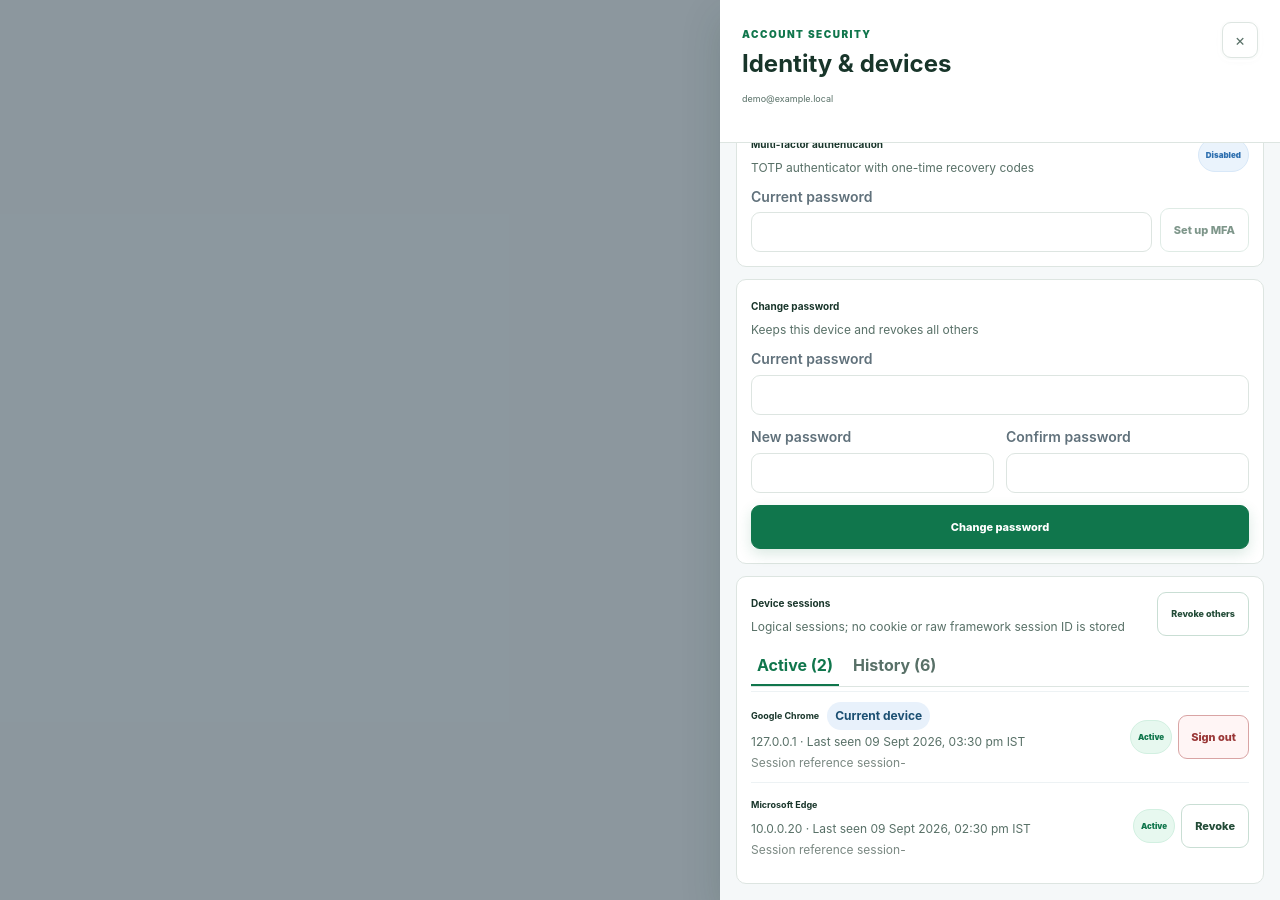
Test: account security panel › defaults to active devices, paginates history, keeps IDs secondary, and names revocation targets
(page scrolled)
Expected: the text "Google Chrome" is shown, [751,710,819,721]
Expected: the text "Mozilla Firefox" is not shown
What coordinates should you click on to do the following:
click the button "Revoke"
I would click on:
 (1215, 826)
Its box is [1181,804,1249,848].
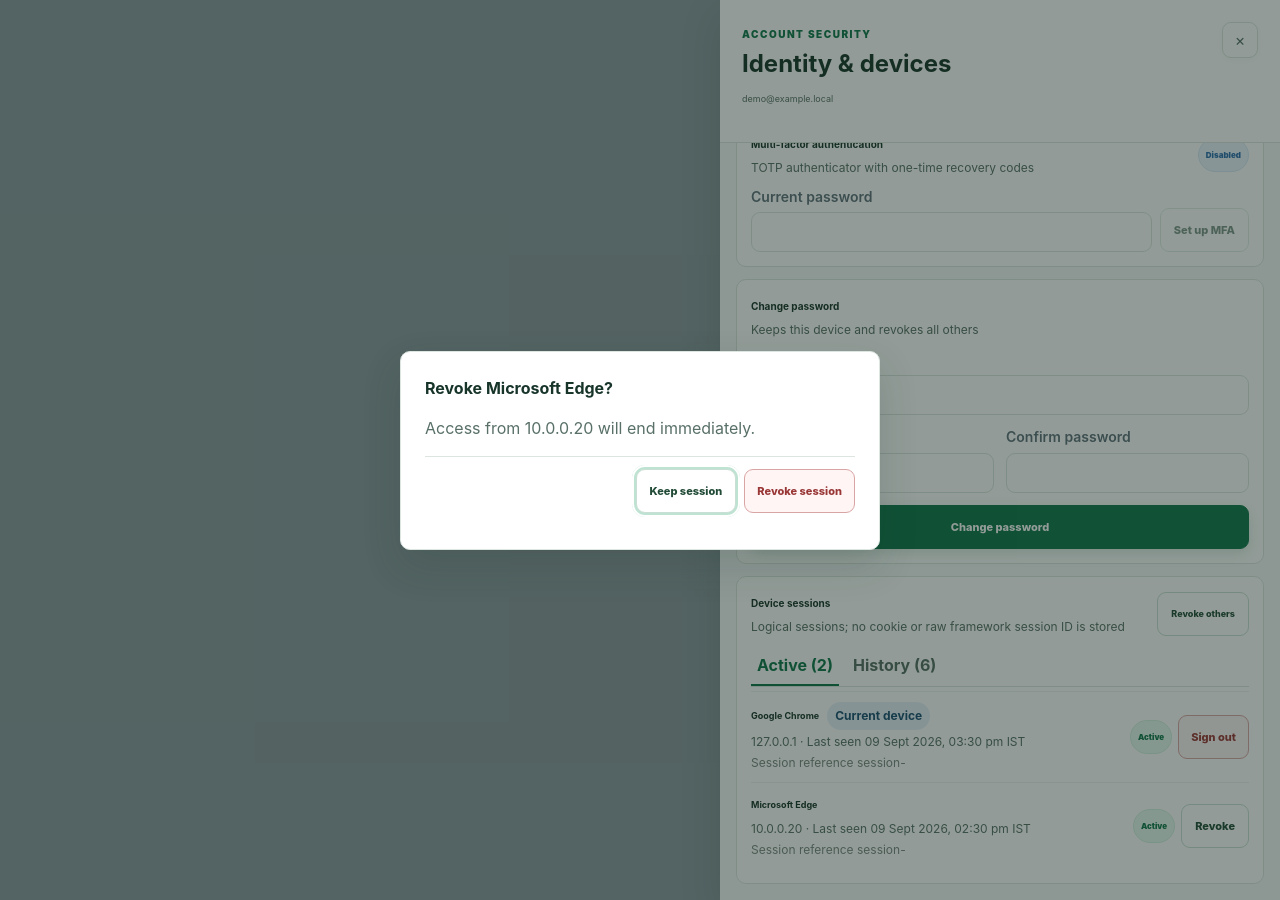
Expected: the dialog "Revoke Microsoft Edge?" is shown, [400,350,880,550]
What coordinates should you click on to do the following:
click the button "Keep session"
I would click on:
 (686, 490)
Its box is [636,468,736,512].
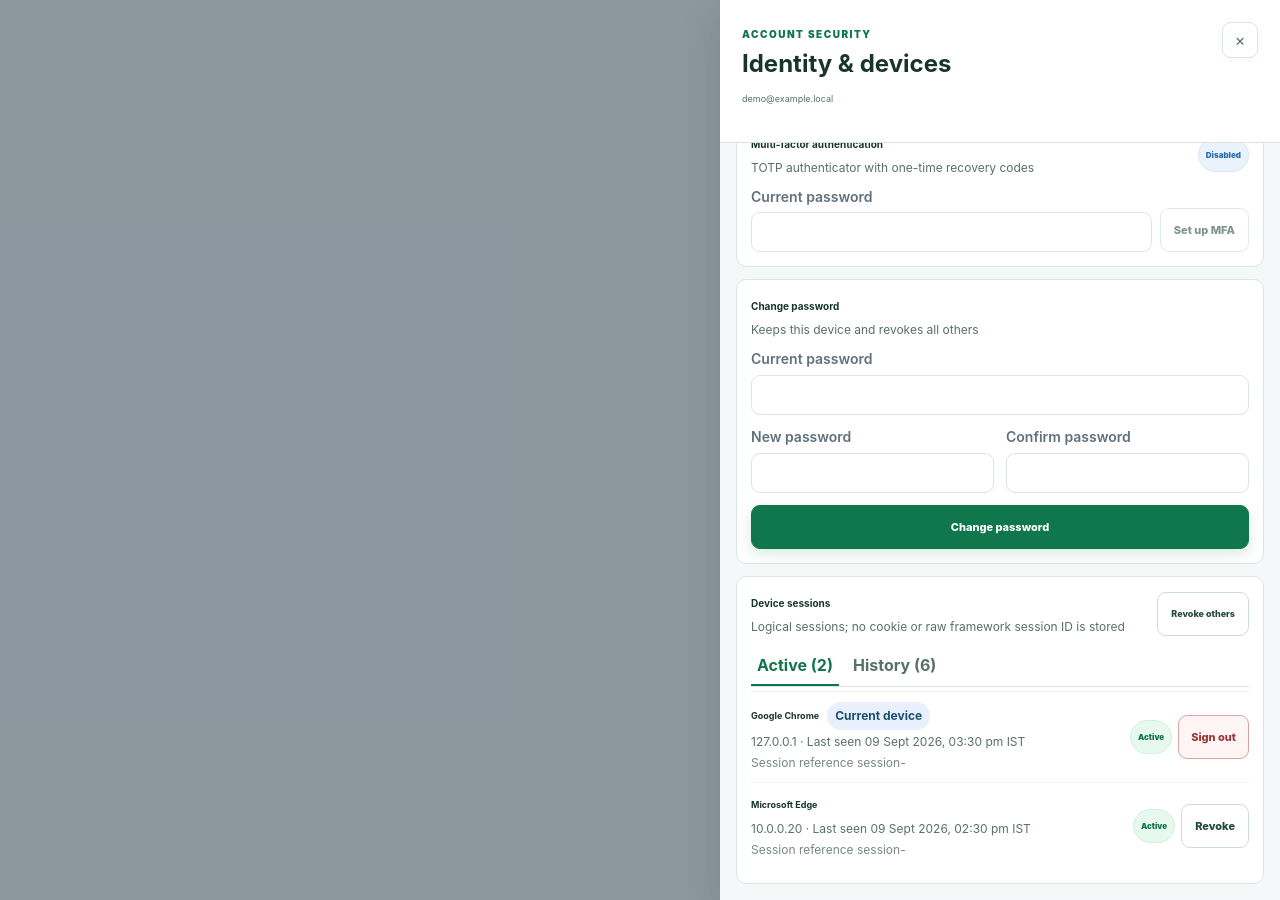
What coordinates should you click on to do the following:
click the tab "History (6)"
I would click on:
 (895, 666)
Its box is [847,646,942,686].
(page scrolled)
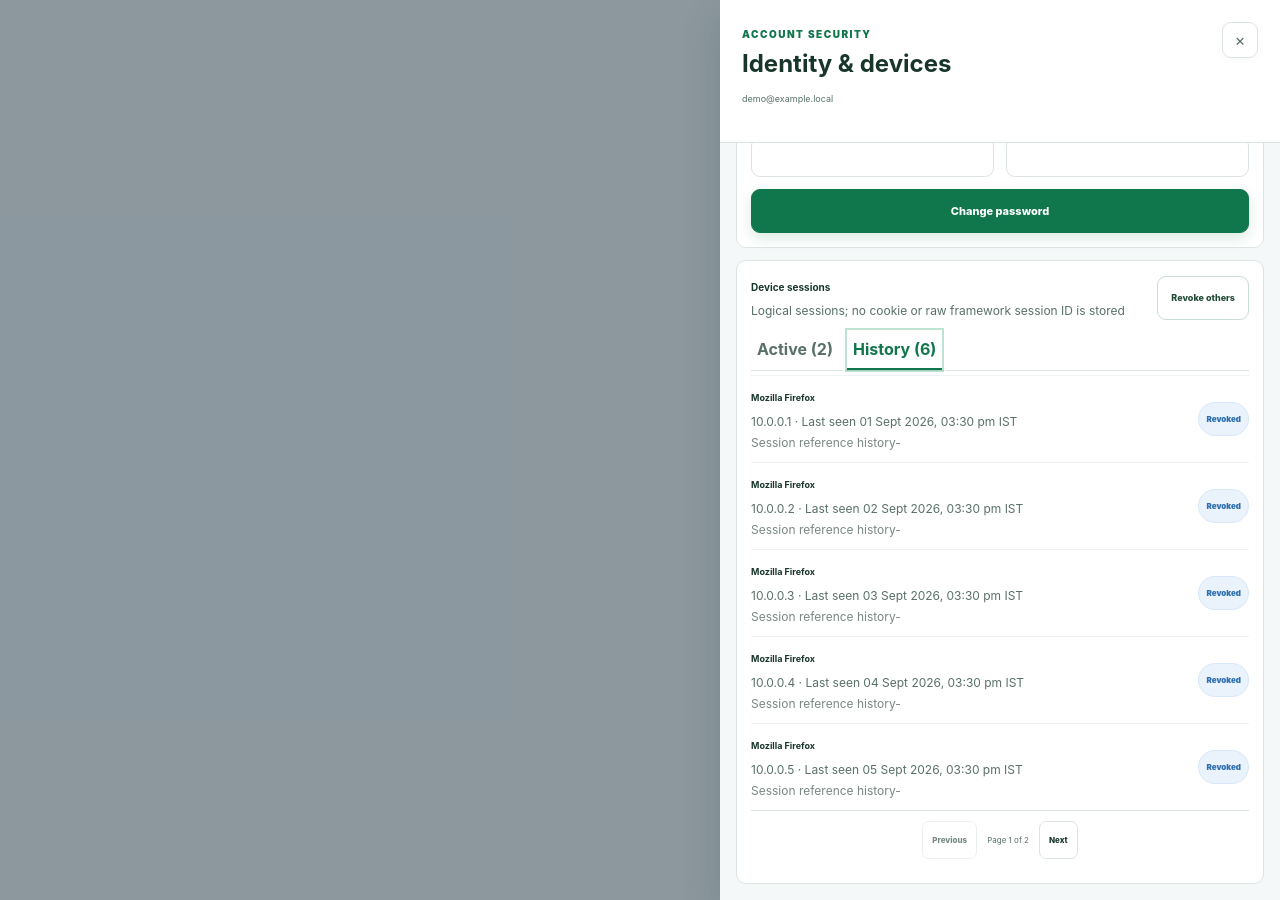
Expected: the text "Page 1 of 2" is shown, [987,835,1029,845]
What coordinates should you click on to do the following:
click the button "Next"
I would click on:
 (1058, 840)
Its box is [1039,821,1078,859].
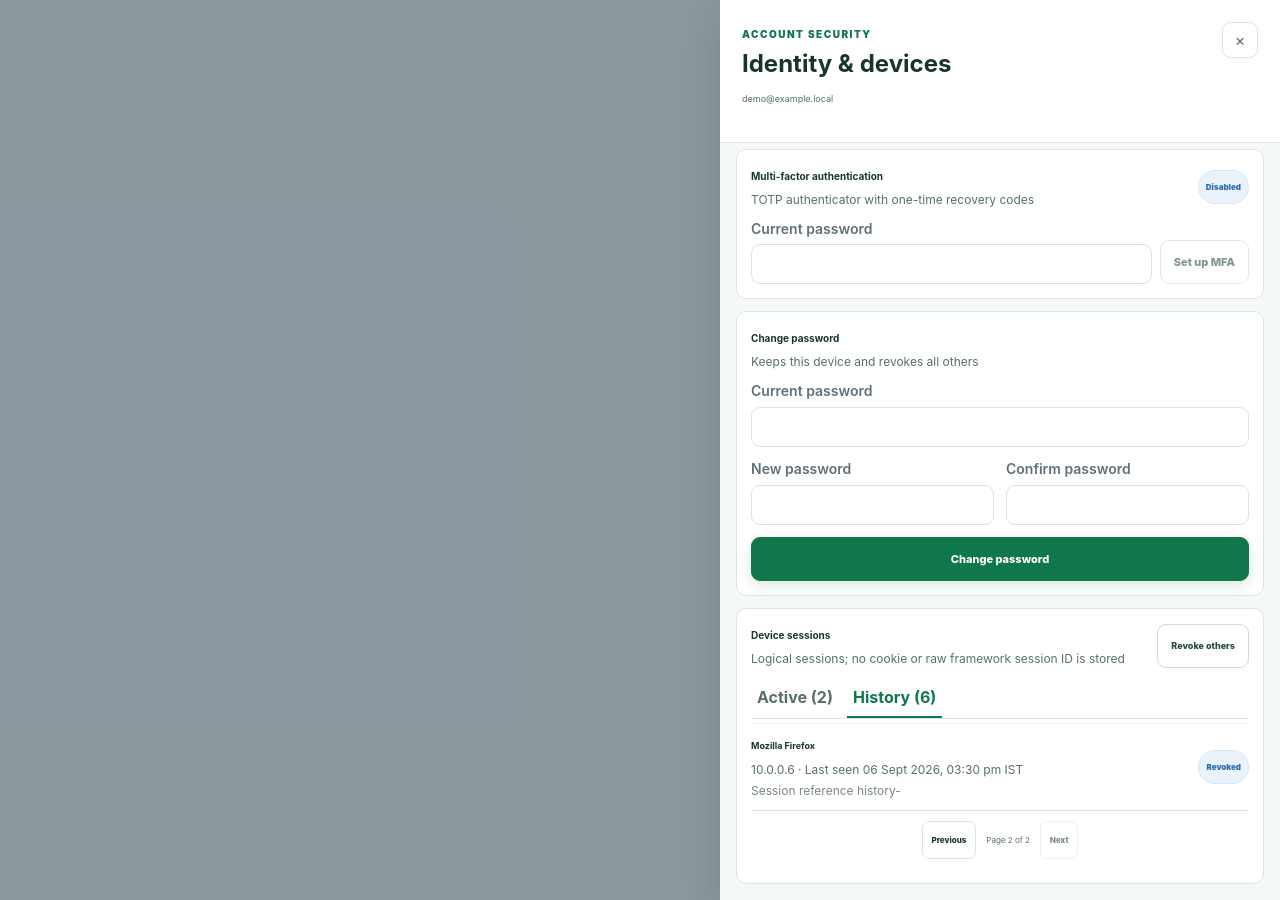
Expected: the text "Page 2 of 2" is shown, [986,835,1030,845]
